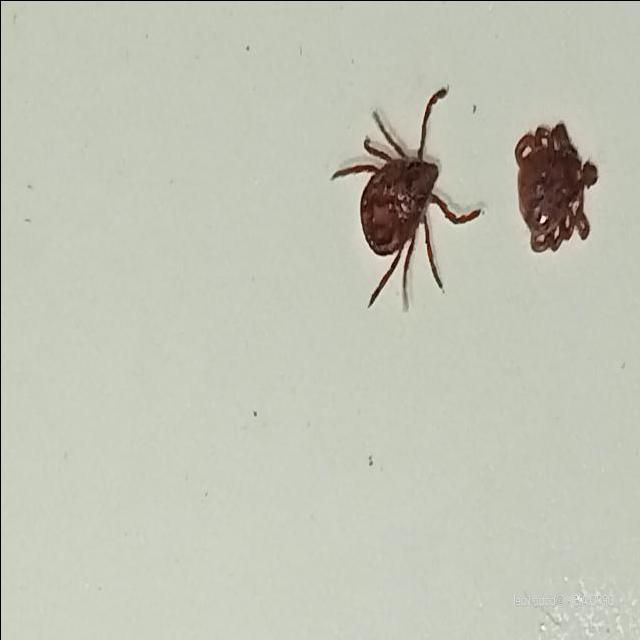Rhipicephalus Sanguineus-M: (329, 85, 482, 313), (513, 121, 599, 255)
